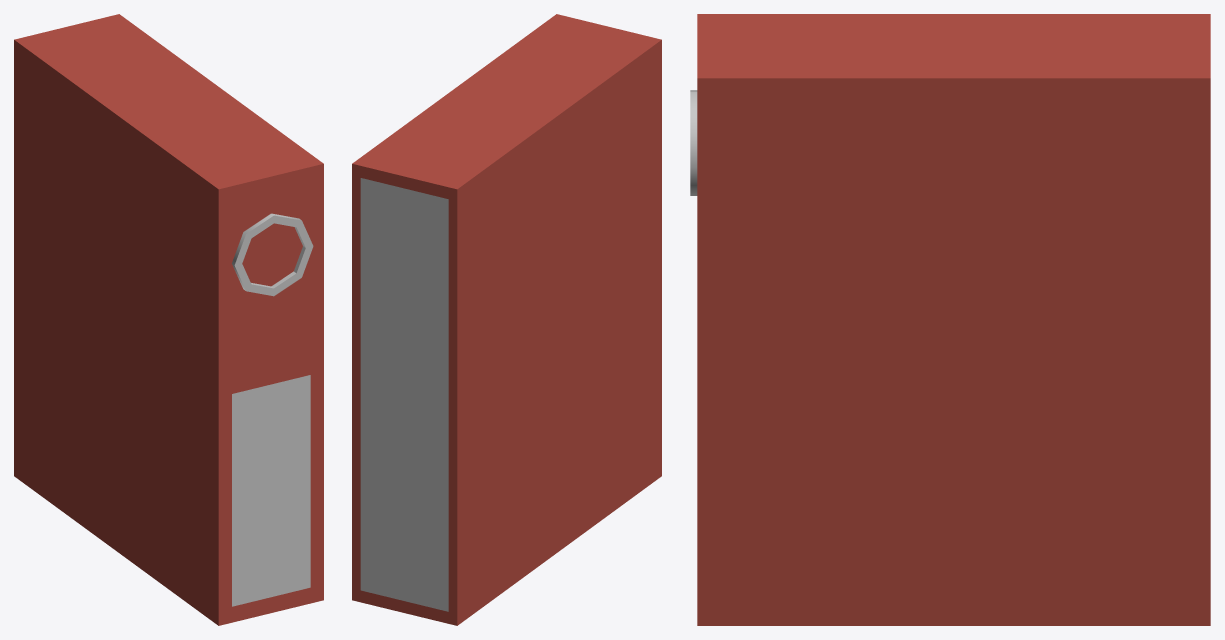
Rendered from file book3.FBX.
3 renders of one model, left to right at view 1: azimuth 30°, elevation 25°; view 2: azimuth 150°, elevation 25°; view 3: azimuth 270°, elevation 25°, orthographic. The views are drawn at different scales.
Visible parts, largest first — view 1: file book3; view 2: file book3; view 3: file book3.
Boxes of the visible parts, x1,y1,x2,y2 form: file book3: [14, 14, 323, 625]; file book3: [352, 14, 661, 625]; file book3: [690, 14, 1210, 625].
Bounding box in the file's own units: 6.73 × 26.69 × 22.98.
Materials: 1 (1 with a texture image).
